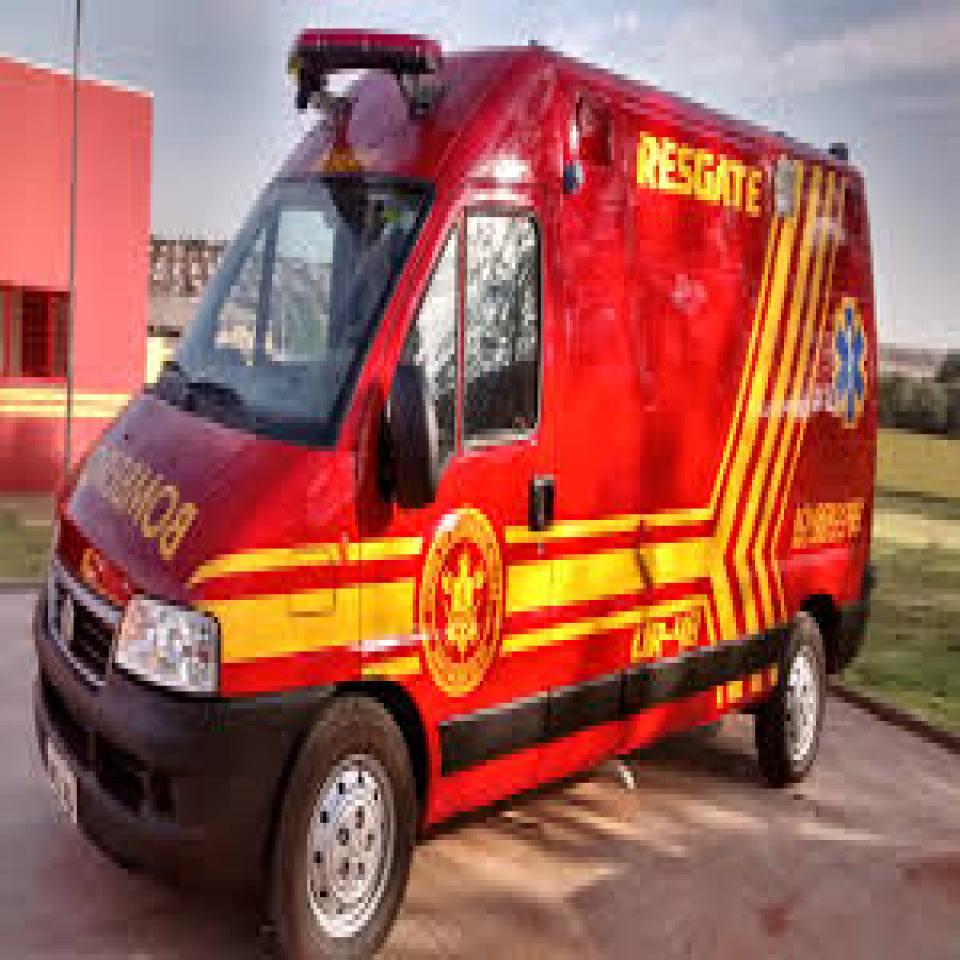viatura: (33, 26, 878, 960)
